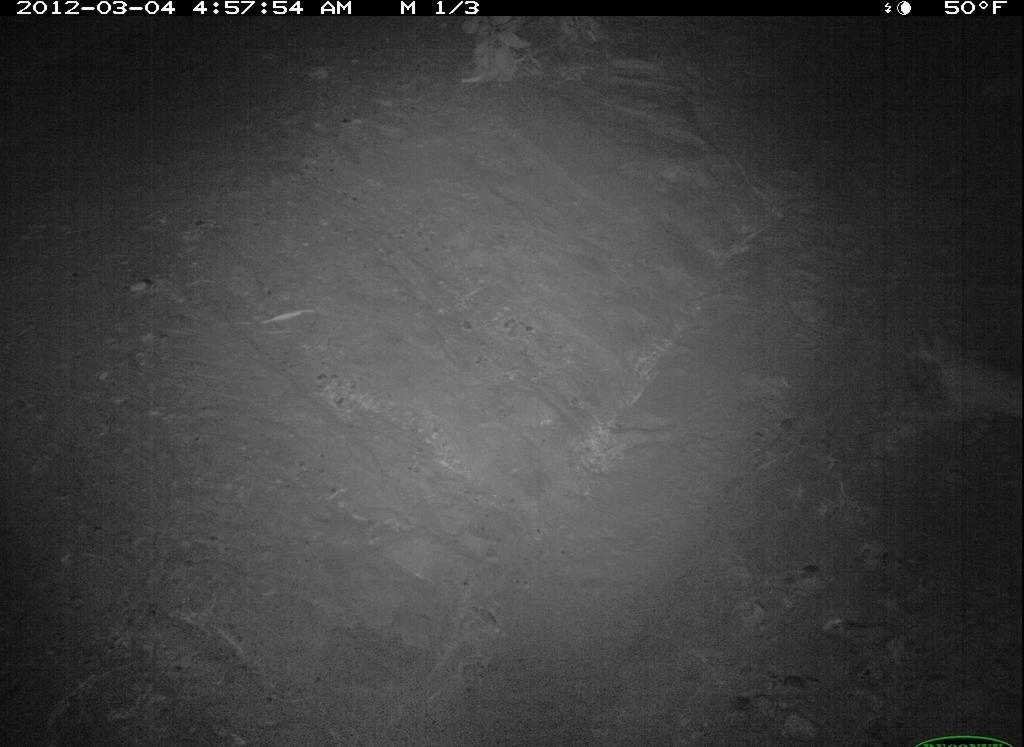bobcat: (899, 312, 1021, 440)
